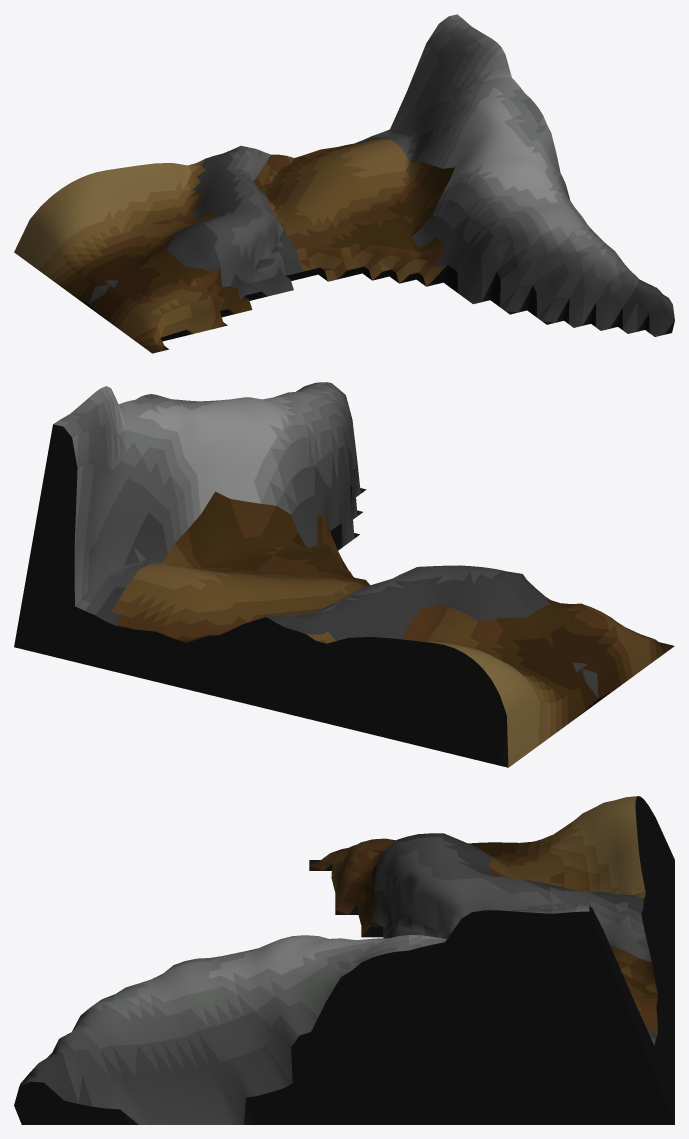
Rendered from rock_machine_bl.glb.
3 views of the same model, one above another, from view 1: azimuth 30°, elevation 25°; view 2: azimuth 150°, elevation 25°; view 3: azimuth 270°, elevation 25° (orthographic). The views are drawn at different scales.
Parts seen in each view (by area): view 1: rock_machine_bl; view 2: rock_machine_bl; view 3: rock_machine_bl.
Part boxes in pixels (bbox=[...]): rock_machine_bl: bbox=[14, 14, 674, 353]; rock_machine_bl: bbox=[14, 382, 674, 767]; rock_machine_bl: bbox=[14, 796, 674, 1124].
Bounding box in the file's own units: 24 × 9.07 × 25.3.
